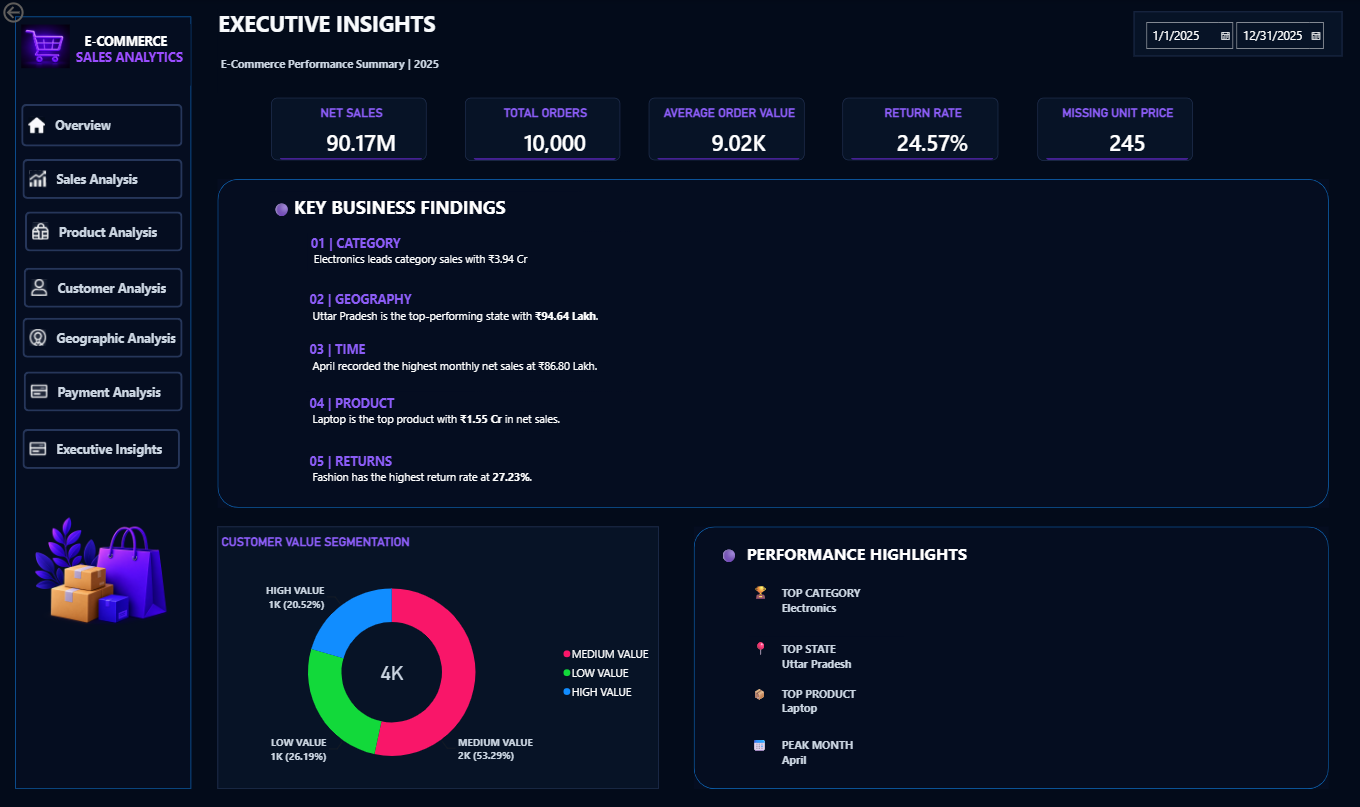

The dashboard page shown, as its layout file describes it:
{"tool":"powerbi","page":{"name":"Executive Insights","canvas":[2020,1200],"ordinal":6},"visuals":[{"type":"textbox","box":[322.8,66.8,755.1,72.4],"z":0},{"type":"shape","box":[22.3,26,261.6,1146.6],"z":1000},{"type":"actionButton","box":[31.5,155.8,239.3,63.1],"z":2000},{"type":"actionButton","box":[33.4,237.5,237.5,59.4],"z":3000},{"type":"actionButton","box":[35.3,398.9,235.6,59.4],"z":4000},{"type":"actionButton","box":[33.4,473.1,237.5,59.4],"z":5000},{"type":"actionButton","box":[35.3,552.9,235.6,59.4],"z":6000},{"type":"textbox","box":[322.4,15.3,736.1,66.8],"z":7000},{"type":"textbox","box":[79,36.5,203.6,91.2],"z":8000},{"type":"slicer","fields":{"Values":["orders.Order_Date"]},"box":[1683,18.1,309.7,66.4],"z":9000},{"type":"actionButton","box":[37.1,315.4,233.8,59.4],"z":10000},{"type":"image","box":[22.3,729.1,261.4,249.3],"z":11000},{"type":"image","box":[31.5,37.1,72.4,66.8],"z":12000},{"type":"cardVisual","title":"NET SALES","fields":{"Data":["orders.Net Sales"]},"box":[402.6,146.6,230,93],"z":13000},{"type":"cardVisual","title":"TOTAL ORDERS","fields":{"Data":["orders.Total Orders Display"]},"box":[690.2,146.6,230,93.7],"z":14000},{"type":"cardVisual","title":"AVERAGE ORDER VALUE","fields":{"Data":["orders.Average Order Value"]},"box":[962.9,146.6,230.9,93],"z":15000},{"type":"actionButton","box":[0,0,100,40],"z":16000},{"type":"cardVisual","title":"RETURN RATE","fields":{"Data":["orders.Return Rate"]},"box":[1250.5,146.6,230.9,93],"z":17000},{"type":"actionButton","box":[33.4,638.2,233.8,59.4],"z":18000},{"type":"donutChart","title":"CUSTOMER VALUE SEGMENTATION","fields":{"Category":["orders.Customer Segment"],"Y":["orders.Customer Count"]},"box":[322.8,782.9,654.9,389.6],"z":19000},{"type":"shape","box":[322.8,267.2,1649.4,487.9],"z":20000},{"type":"textbox","box":[454.5,428.6,500,59.4],"z":21000},{"type":"textbox","box":[456.4,345.1,500,59.4],"z":22000},{"type":"textbox","box":[400.7,285.7,462.3,60.2],"z":23000},{"type":"textbox","box":[454.5,502.8,500,59],"z":24000},{"type":"textbox","box":[454.5,582.6,500,59],"z":25000},{"type":"textbox","box":[454.5,667.9,497.2,59.4],"z":26000},{"type":"shape","box":[1029.7,782.9,942.5,389.6],"z":27000},{"type":"textbox","box":[1059.4,795.9,408.2,51.9],"z":28000},{"type":"textbox","box":[1111.3,862.7,230.1,56],"z":29000},{"type":"textbox","box":[1111.3,1090.9,230,56],"z":30000},{"type":"textbox","box":[1111.3,1014.8,230,56],"z":31000},{"type":"textbox","box":[1111.3,946.2,230,56],"z":32000},{"type":"cardVisual","title":"MISSING UNIT PRICE","fields":{"Data":["orders.Missing Amount"]},"box":[1539.9,146.6,230,93.7],"z":34000}]}

Visuals, with their boxes in screenshot pixels (x1, y1, x2, y2), scaled from the page's 2020x1200 canvas onto the 1360x807 screenshot:
textbox: bbox=[217, 45, 726, 94]
shape: bbox=[15, 17, 191, 789]
actionButton: bbox=[21, 105, 182, 147]
actionButton: bbox=[22, 160, 182, 200]
actionButton: bbox=[24, 268, 182, 308]
actionButton: bbox=[22, 318, 182, 358]
actionButton: bbox=[24, 372, 182, 412]
textbox: bbox=[217, 10, 713, 55]
textbox: bbox=[53, 25, 190, 86]
slicer - orders.Order_Date: bbox=[1133, 12, 1342, 57]
actionButton: bbox=[25, 212, 182, 252]
image: bbox=[15, 490, 191, 658]
image: bbox=[21, 25, 70, 70]
"NET SALES" cardVisual: bbox=[271, 99, 426, 161]
"TOTAL ORDERS" cardVisual: bbox=[465, 99, 620, 162]
"AVERAGE ORDER VALUE" cardVisual: bbox=[648, 99, 804, 161]
actionButton: bbox=[0, 0, 67, 27]
"RETURN RATE" cardVisual: bbox=[842, 99, 997, 161]
actionButton: bbox=[22, 429, 180, 469]
"CUSTOMER VALUE SEGMENTATION" donutChart: bbox=[217, 527, 658, 789]
shape: bbox=[217, 180, 1328, 508]
textbox: bbox=[306, 288, 643, 328]
textbox: bbox=[307, 232, 644, 272]
textbox: bbox=[270, 192, 581, 233]
textbox: bbox=[306, 338, 643, 378]
textbox: bbox=[306, 392, 643, 431]
textbox: bbox=[306, 449, 641, 489]
shape: bbox=[693, 527, 1328, 789]
textbox: bbox=[713, 535, 988, 570]
textbox: bbox=[748, 580, 903, 618]
textbox: bbox=[748, 734, 903, 771]
textbox: bbox=[748, 682, 903, 720]
textbox: bbox=[748, 636, 903, 674]
"MISSING UNIT PRICE" cardVisual: bbox=[1037, 99, 1192, 162]
